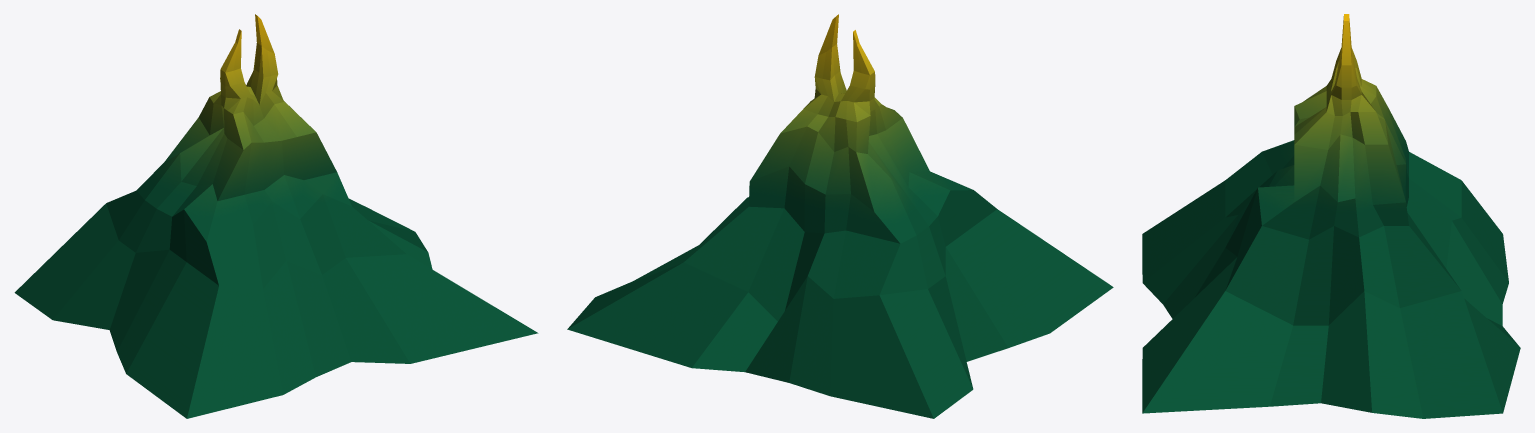
Rendered from MOD_Mountain2.fbx.
The picture shows the model from 3 angles, left to right: view 1: azimuth 30°, elevation 25°; view 2: azimuth 150°, elevation 25°; view 3: azimuth 270°, elevation 25°; orthographic projection. The views are drawn at different scales.
Visible parts, largest first — view 1: MOD_Berg3; view 2: MOD_Berg3; view 3: MOD_Berg3.
Part boxes in pixels (<box>): MOD_Berg3: <box>14,14,538,418</box>; MOD_Berg3: <box>567,14,1113,418</box>; MOD_Berg3: <box>1142,14,1520,418</box>.
Bounding box in the file's own units: 25.94 × 19.93 × 22.39.
Materials: 1 (1 with a texture image).
